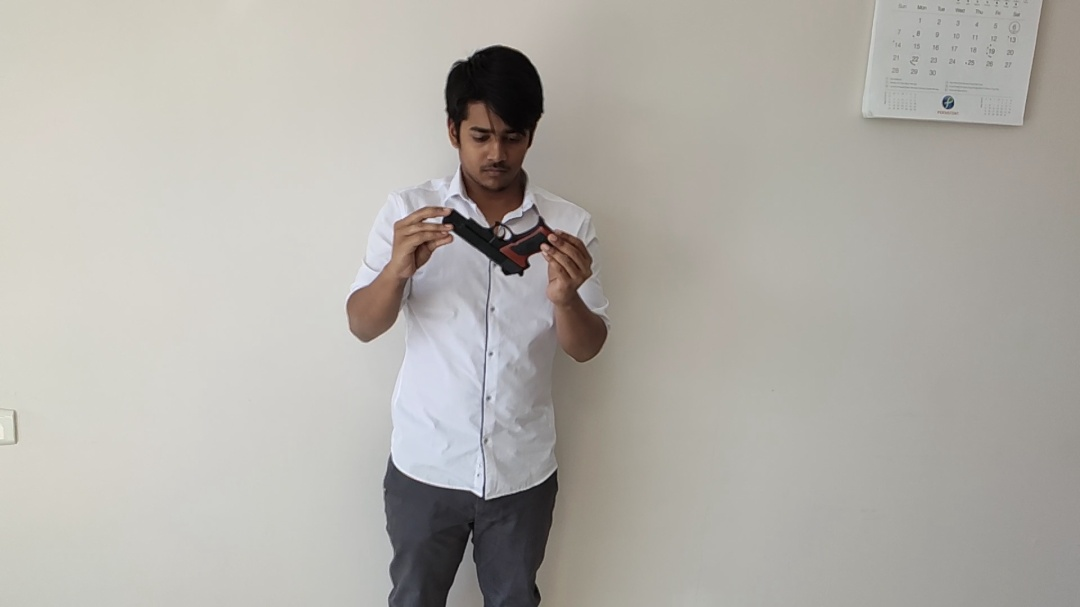gun: (443, 208, 550, 277)
